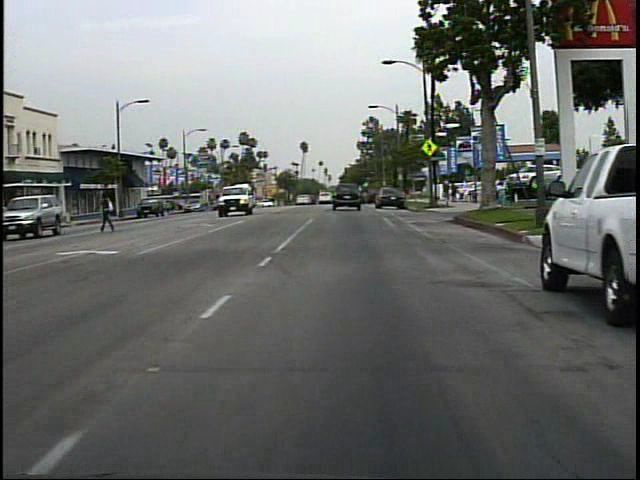person: (100, 187, 122, 237), (493, 179, 509, 212)
